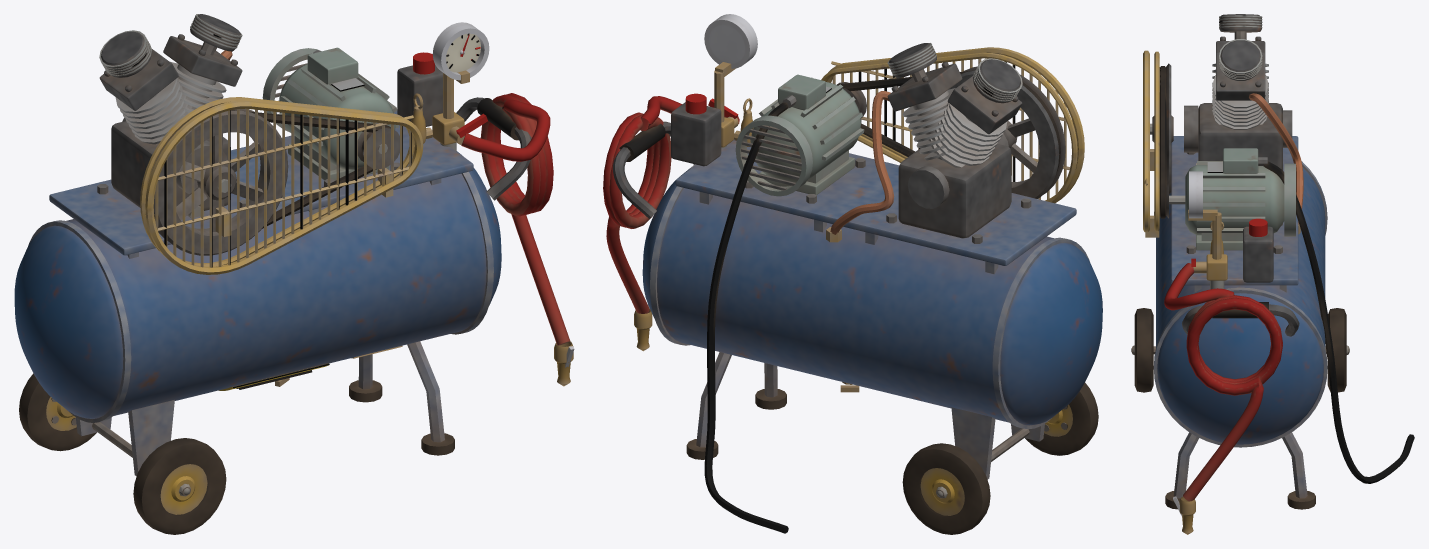
The model's file is AirCompressorV2.fbx.
3 views of the same model, side by side, from view 1: azimuth 30°, elevation 25°; view 2: azimuth 150°, elevation 25°; view 3: azimuth 270°, elevation 25° (orthographic). The views are drawn at different scales.
Parts seen in each view (by area): view 1: AirCompressor, Flywheel; view 2: AirCompressor, Flywheel; view 3: AirCompressor, Flywheel.
Part boxes in pixels (box(x1,y1,x2,y2)): AirCompressor: box(14, 14, 574, 534); Flywheel: box(148, 108, 288, 255); AirCompressor: box(603, 14, 1102, 534); Flywheel: box(949, 66, 1065, 198); AirCompressor: box(1131, 14, 1414, 534); Flywheel: box(1150, 63, 1173, 194).
Bounding box in the file's own units: 118 × 101 × 67.46.
4 materials, 4 textured.
